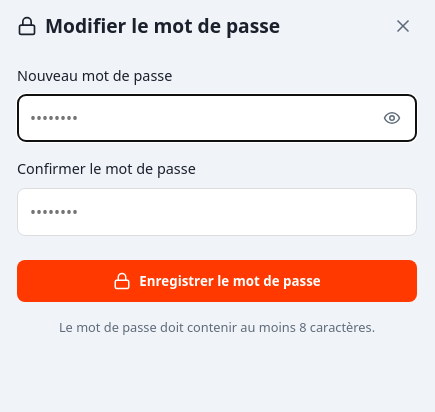
Test case: ChangePassword › affiche une erreur si le mot de passe est trop court
Type "abc" into the password field with placeholder "••••••••" below "Nouveau mot de passe".
click(217, 118); type("abc")  # box top-left (17, 94), bottom-right (417, 142)
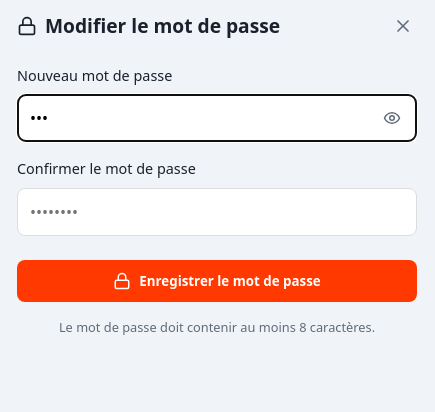
Type "abc" into the password field with placeholder "••••••••".
click(217, 212); type("abc")  # box top-left (17, 188), bottom-right (417, 236)
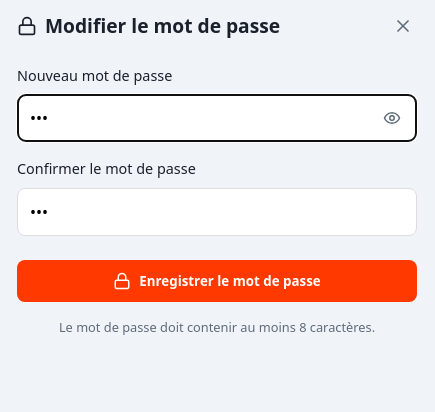
Submit the form, box top-left (17, 65), bottom-right (417, 302)
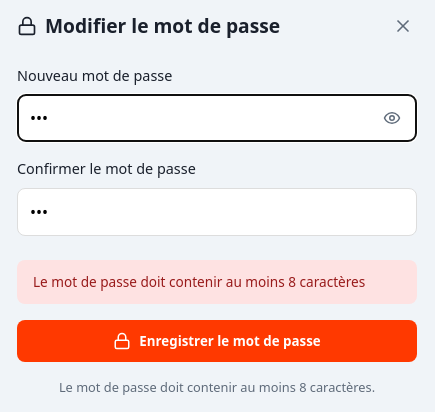
Expected: the text "Le mot de passe doit contenir au moins 8 caractères" is shown, top-left (17, 260), bottom-right (417, 304)
Expected: the text with class "alert--error" shows "au moins 8 caractères", top-left (33, 272), bottom-right (365, 291)
